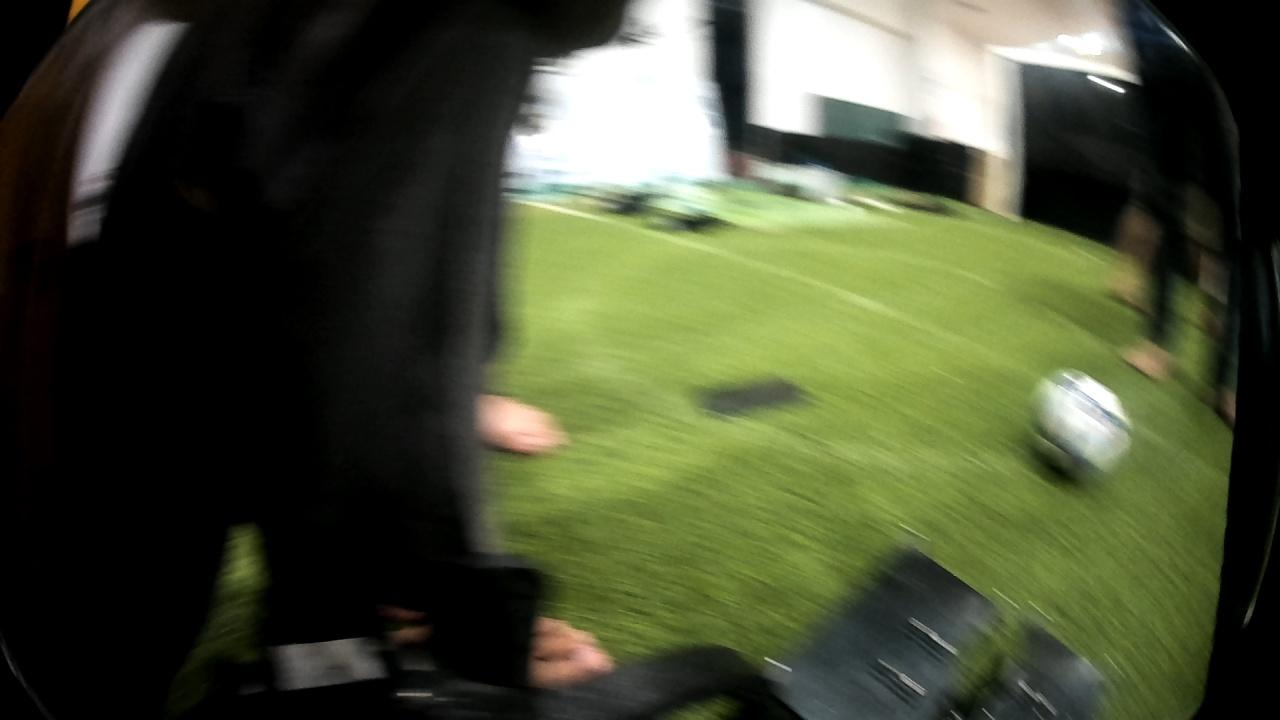ball: (1017, 365, 1141, 489)
